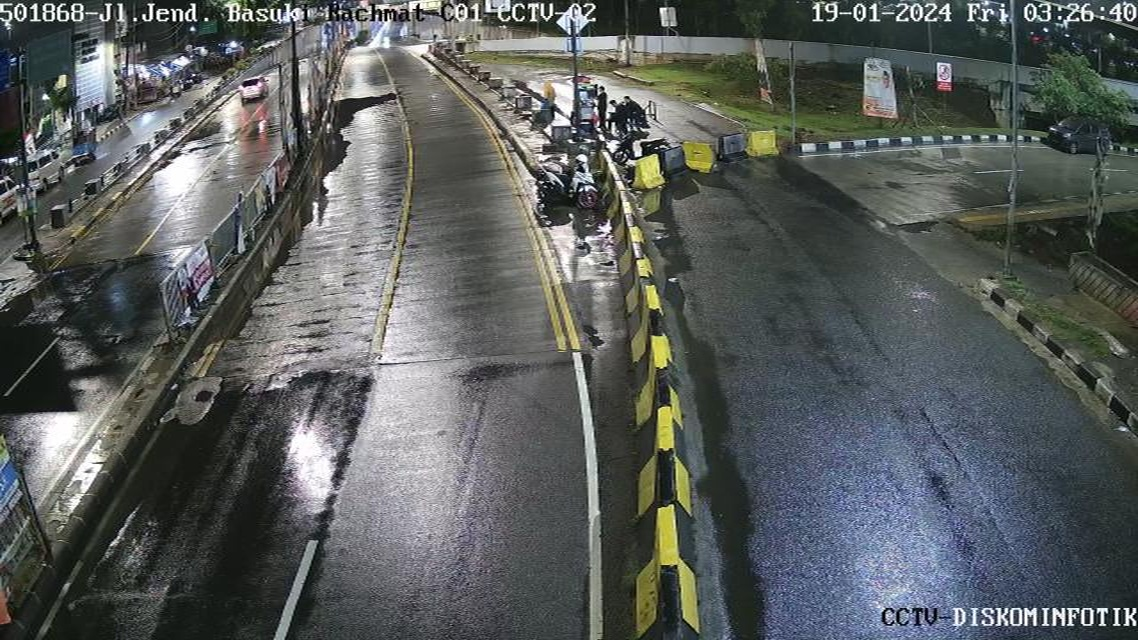Gerobak: (573, 58, 599, 133)
